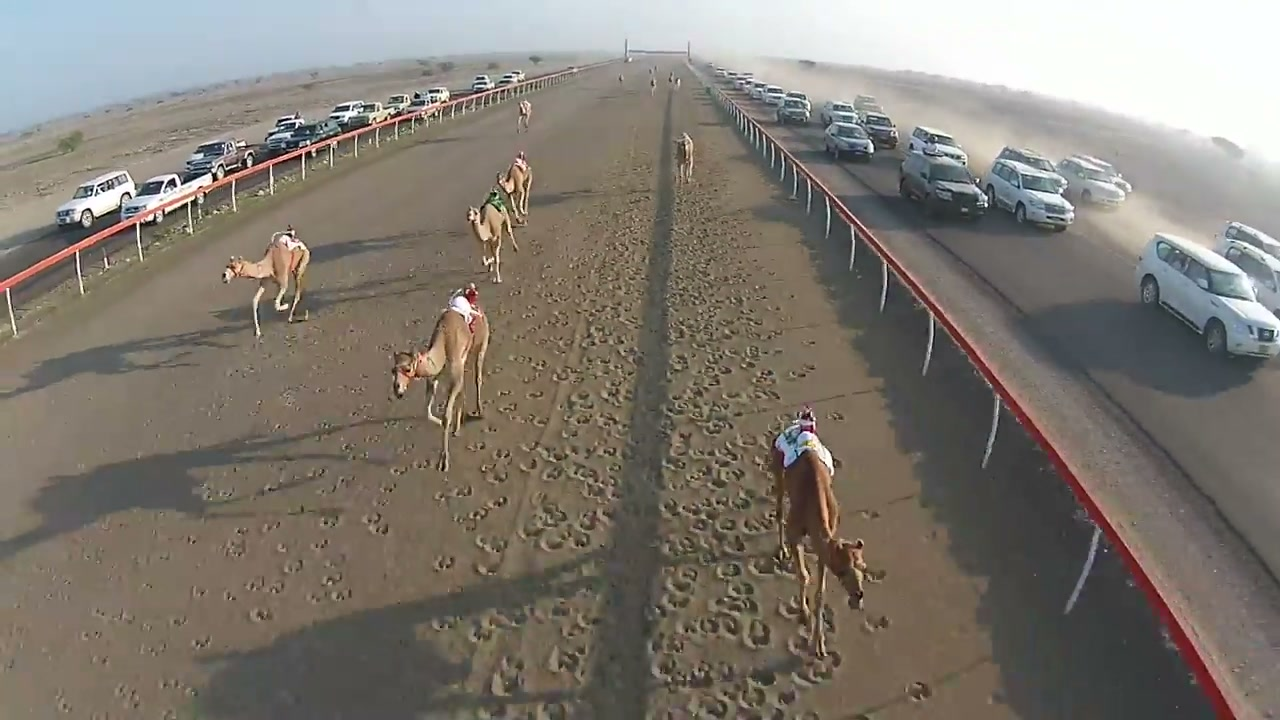animal_foot_print: (648, 154, 892, 717), (428, 196, 653, 711)
